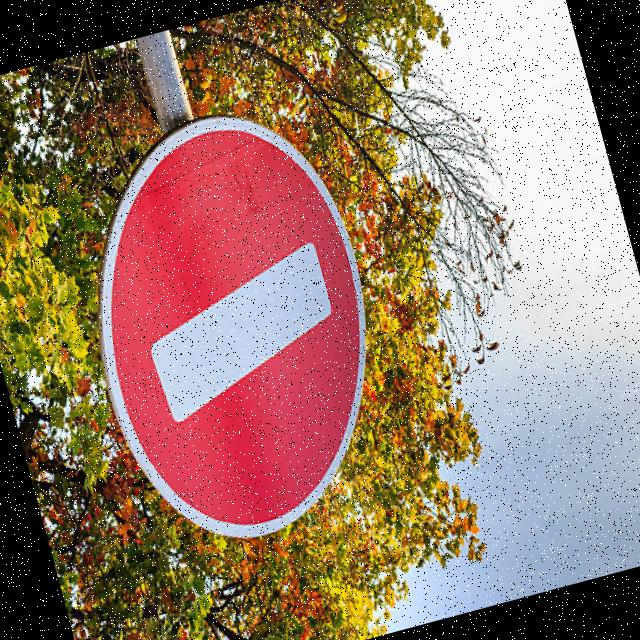do_not_enter: (39, 77, 432, 582)
